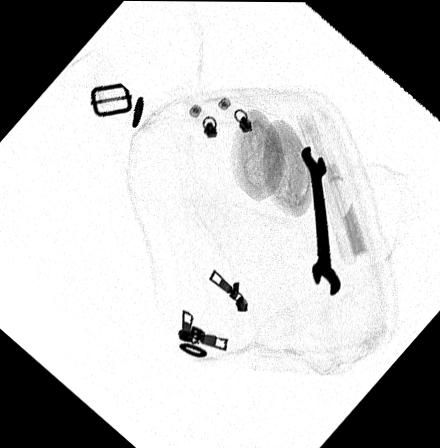Wrench: (299, 144, 342, 298)
